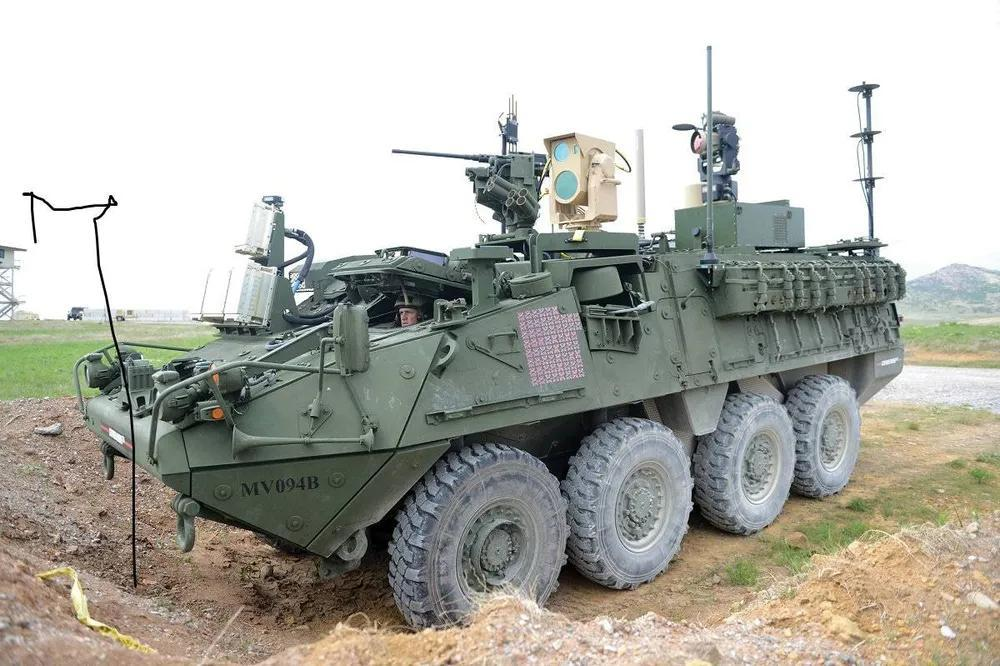MIL_IFV: (74, 81, 901, 638)
